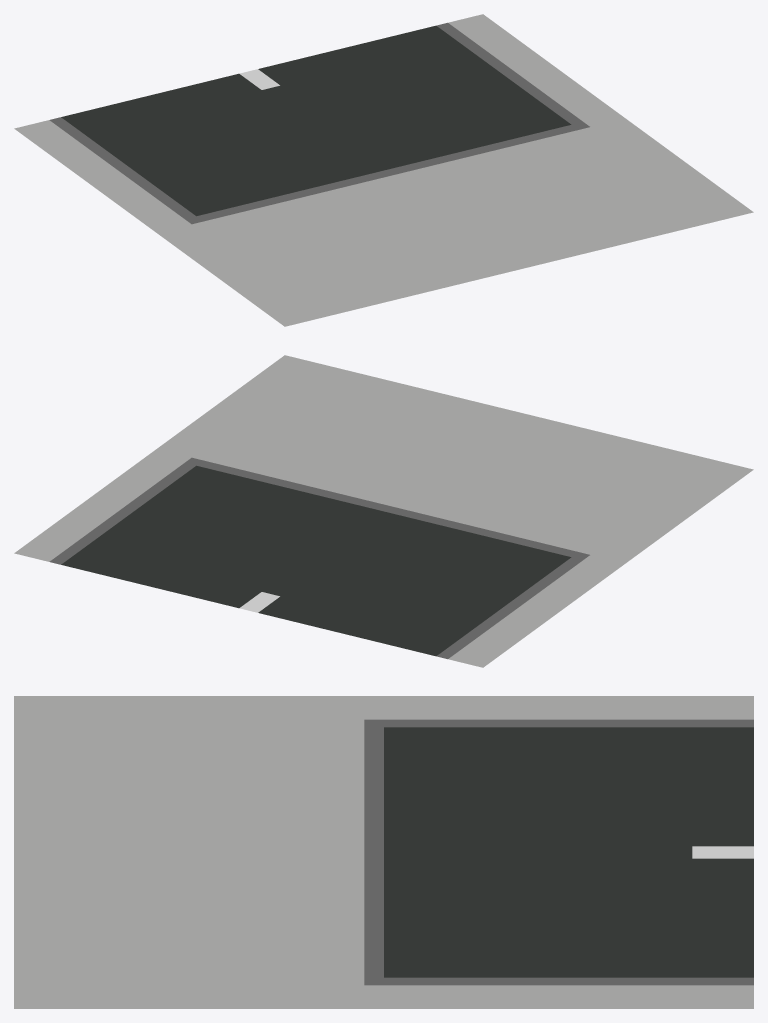
The model's file is SM_Road_Dead_End.fbx.
3 views of the same model, one above another, from view 1: azimuth 30°, elevation 25°; view 2: azimuth 150°, elevation 25°; view 3: azimuth 270°, elevation 25° (orthographic). The views are drawn at different scales.
Visible parts, largest first — view 1: Tile_Road_Dead_End; view 2: Tile_Road_Dead_End; view 3: Tile_Road_Dead_End.
Part boxes in pixels (x1,y1,x2,y2): Tile_Road_Dead_End: (14,14,753,326); Tile_Road_Dead_End: (14,355,753,667); Tile_Road_Dead_End: (14,696,753,1008).
Size of the model in its own units: 1000 by 0 by 1000.
Materials: 1 (1 with a texture image).
